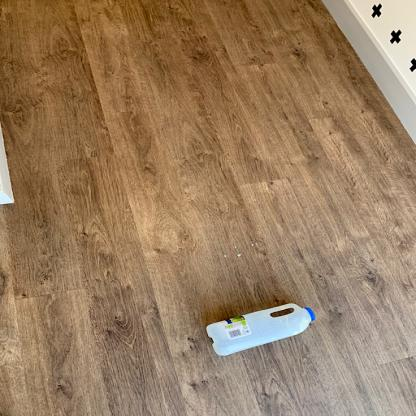trash: (203, 302, 317, 358)
